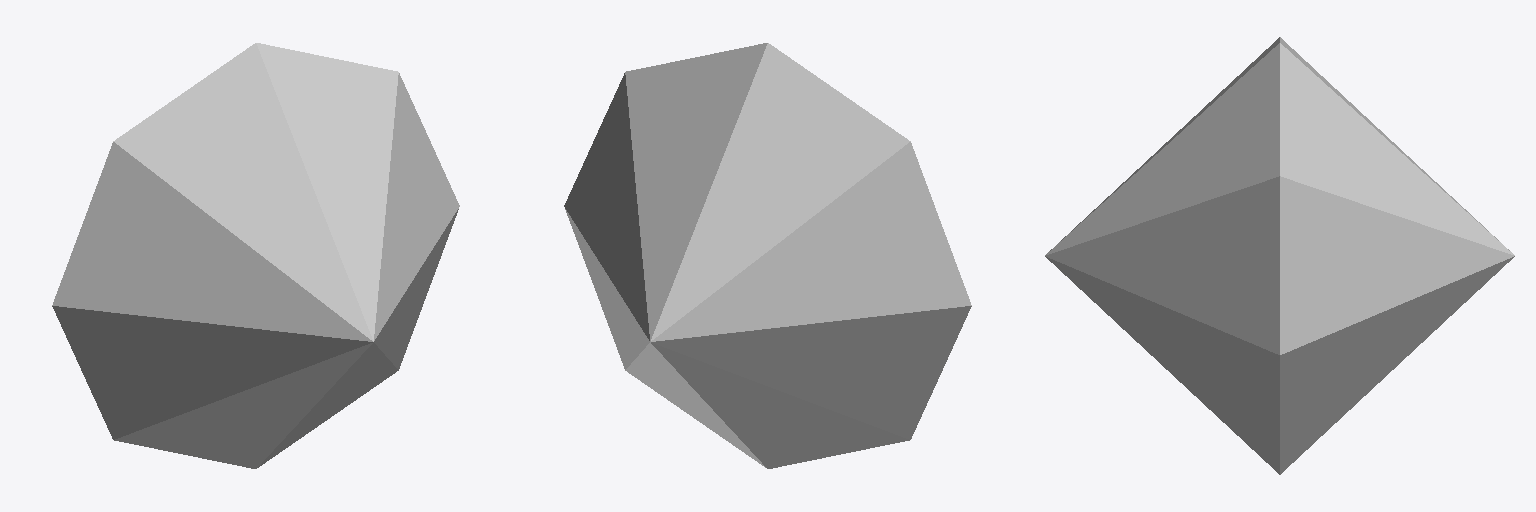
The model's file is pellet-lowpoly.obj.
The picture shows the model from 3 angles: view 1: azimuth 30°, elevation 25°; view 2: azimuth 150°, elevation 25°; view 3: azimuth 270°, elevation 25°; orthographic projection.
Visible parts, largest first — view 1: pellet; view 2: pellet; view 3: pellet.
Part boxes in pixels (left/top/right/bottom): pellet: left=52, top=43, right=459, bottom=468; pellet: left=564, top=43, right=971, bottom=468; pellet: left=1045, top=37, right=1514, bottom=474.
Bounding box in the file's own units: 0.2 × 0.2 × 0.2.